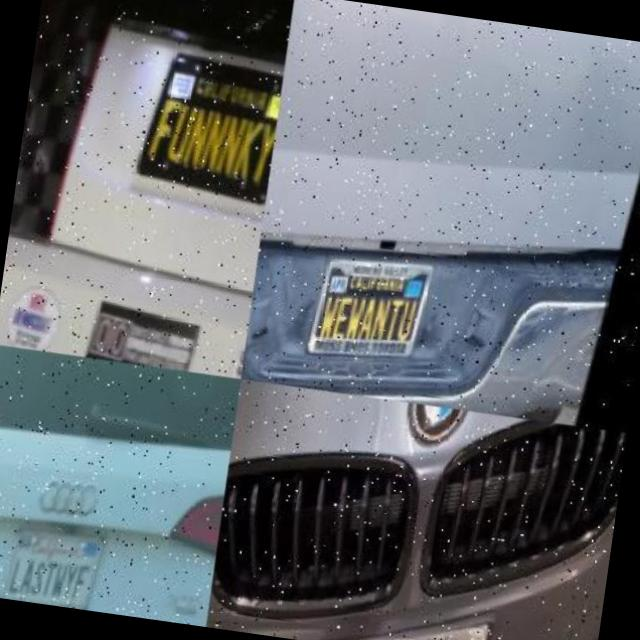LicensePlate: (141, 51, 284, 208), (313, 253, 442, 375), (5, 524, 104, 612)
